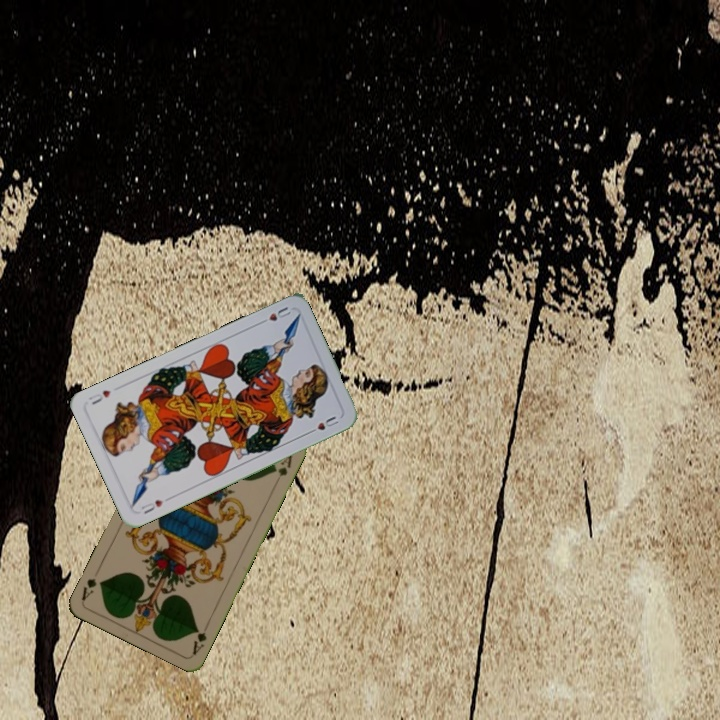GA: (188, 619, 212, 657)
HU: (255, 302, 293, 327), (137, 496, 166, 516)
